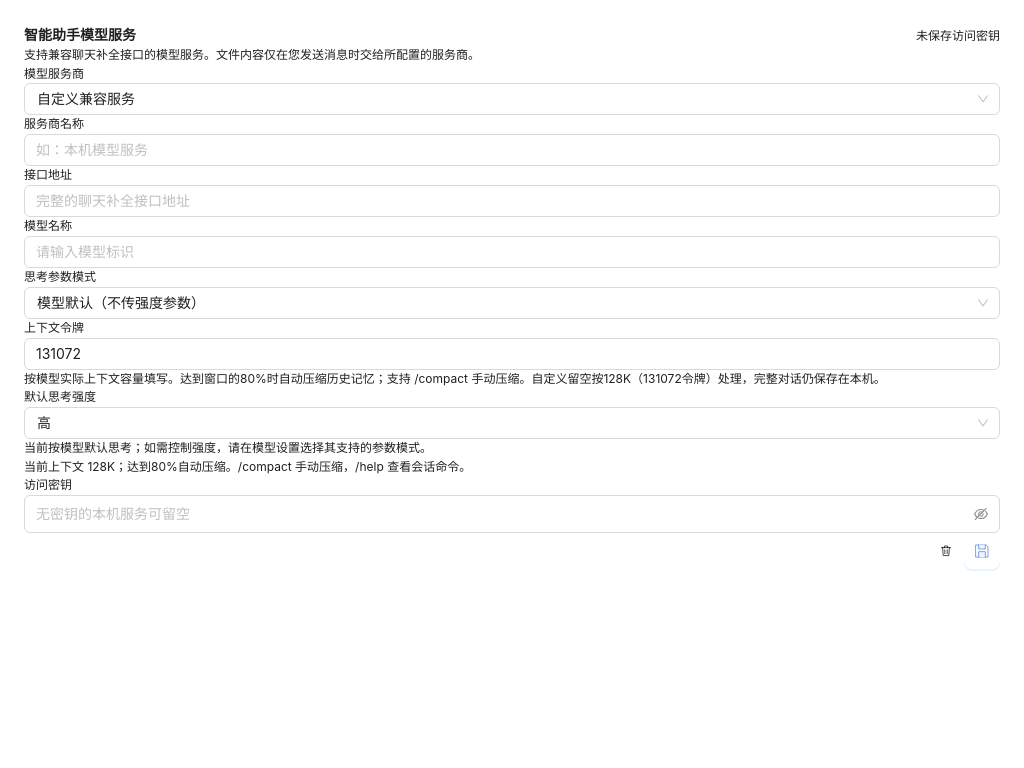
Scenario: 智能助手设置同步 › 保存服务商和密钥后清空输入框且不回显密钥
Type "测试服务" into the field named "模型服务商名称".
click(512, 150); type("测试服务")  # box [24,134,1000,166]
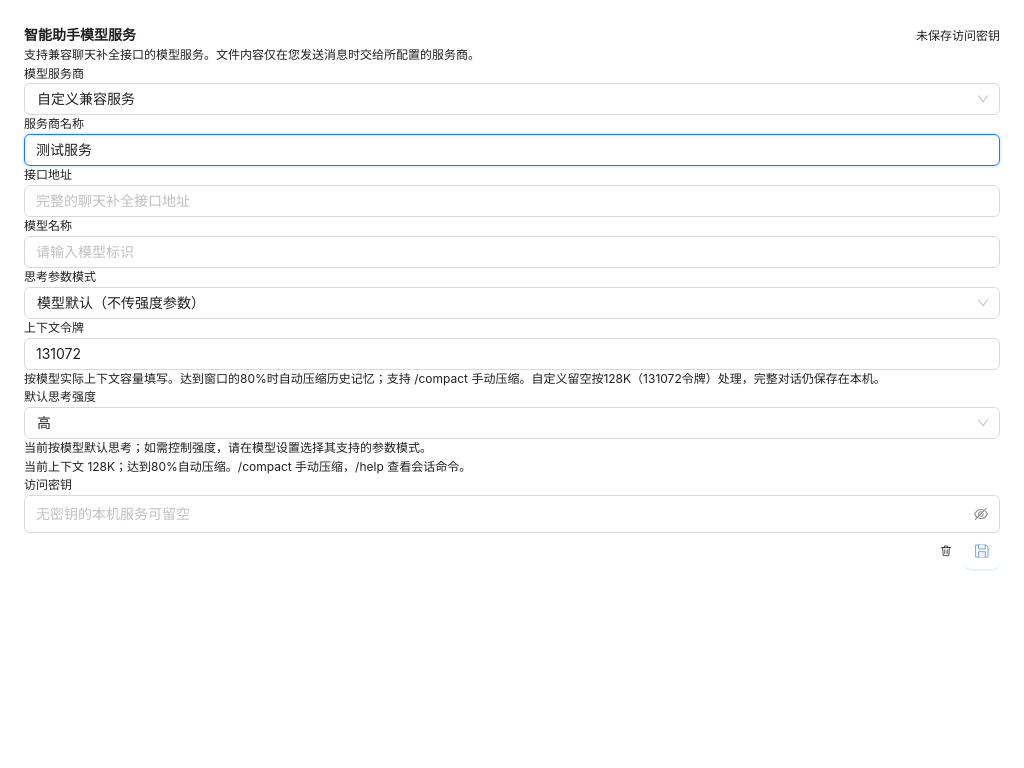
Type "https://example.com/v1/chat/completions" into the field named "模型接口地址".
click(512, 201); type("https://example.com/v1/chat/completions")  # box [24,185,1000,217]
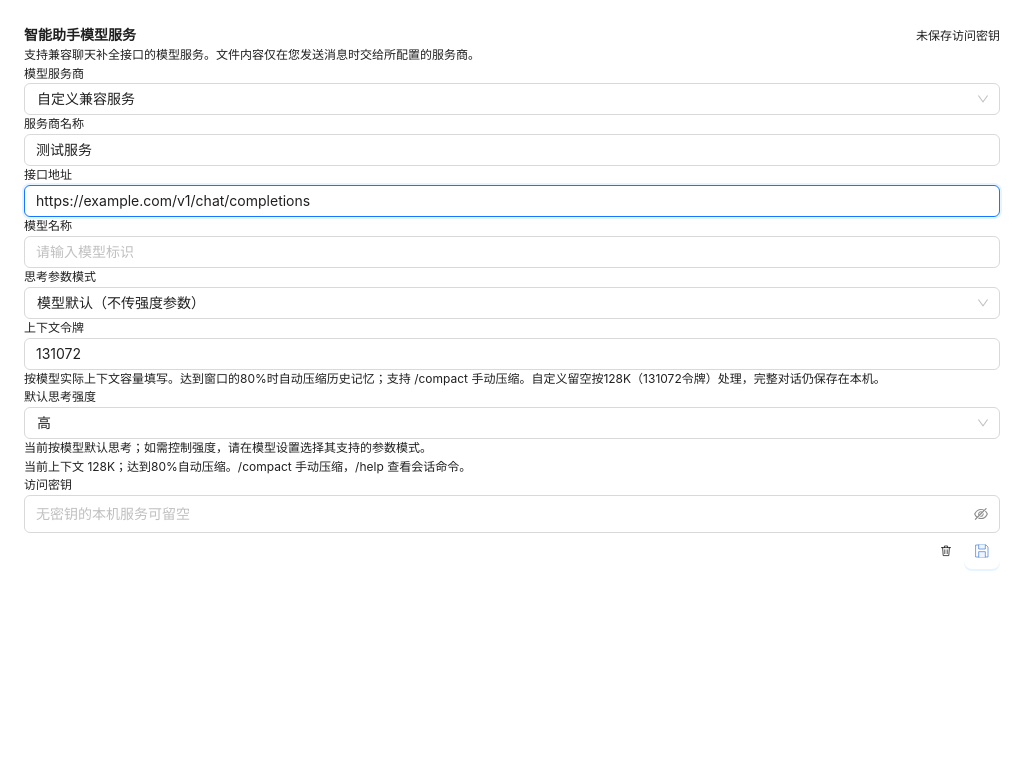
Type "测试模型" into the field labelled "模型名称".
click(512, 252); type("测试模型")  # box [24,236,1000,268]
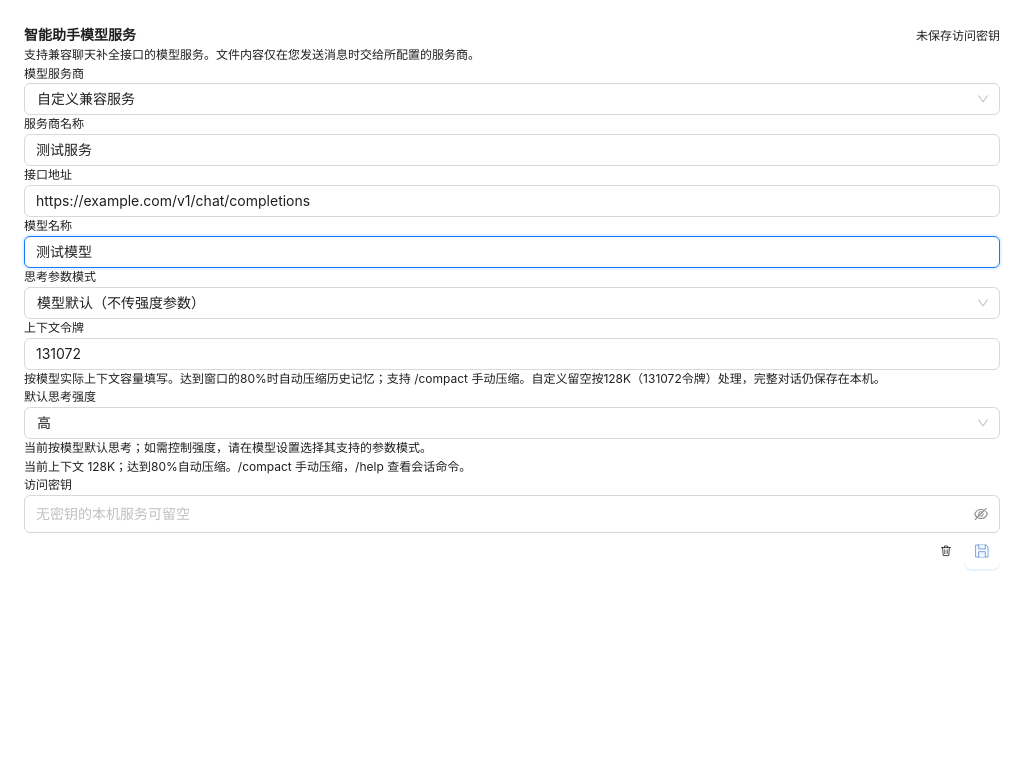
Type "私人密钥" into the password field named "模型访问密钥".
click(503, 514); type("私人密钥")  # box [36,500,970,528]
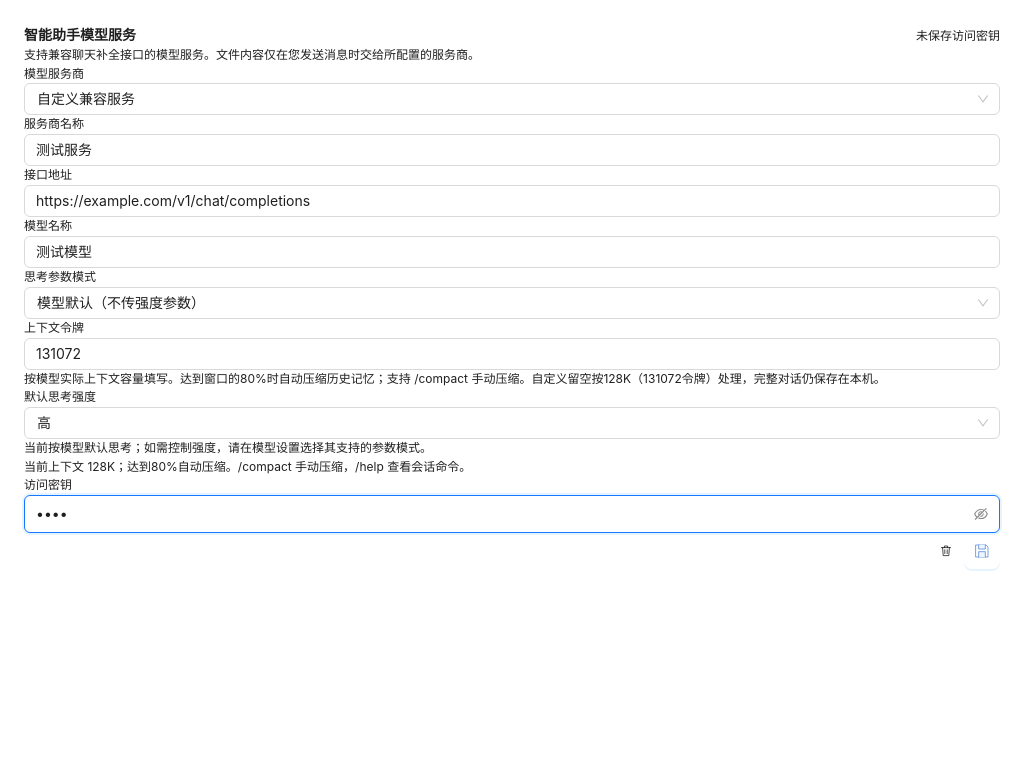
Click the button named "保存模型设置".
click(982, 551)  # box [964,533,1000,569]
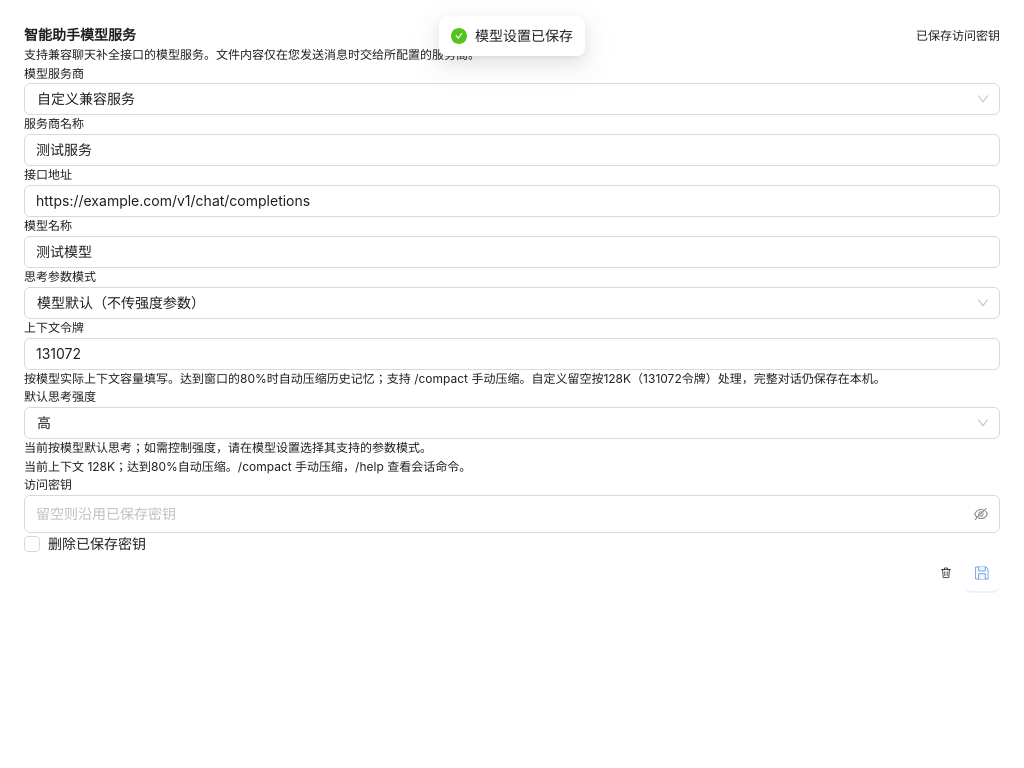
Result: the password field named "模型访问密钥" is empty at [36,500,970,528]
Result: the text "已保存访问密钥" is shown at [916,27,1000,46]
